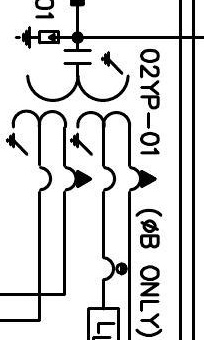115_cvt_1p: (5, 48, 158, 194)
115_la: (14, 25, 60, 49)
